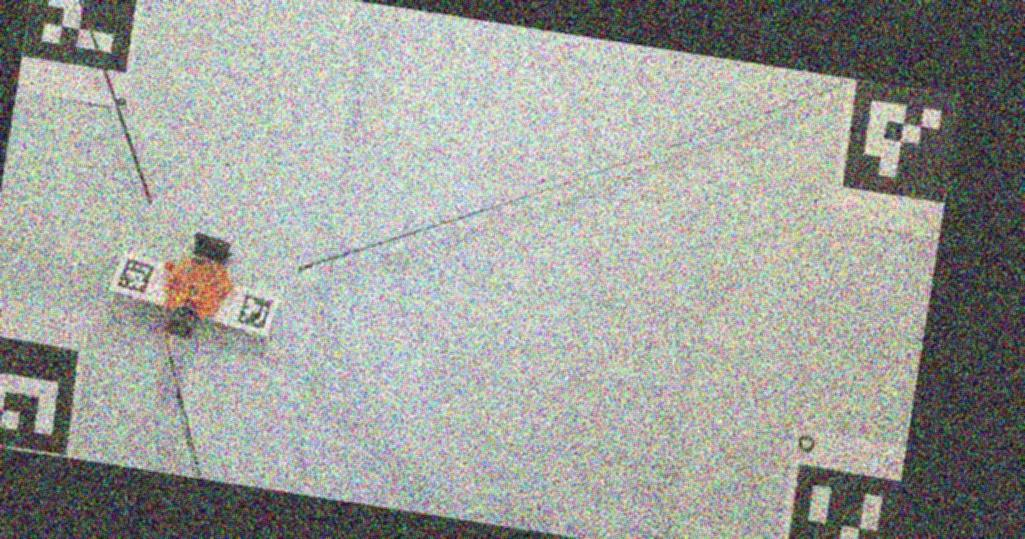robot: (162, 232, 232, 338)
